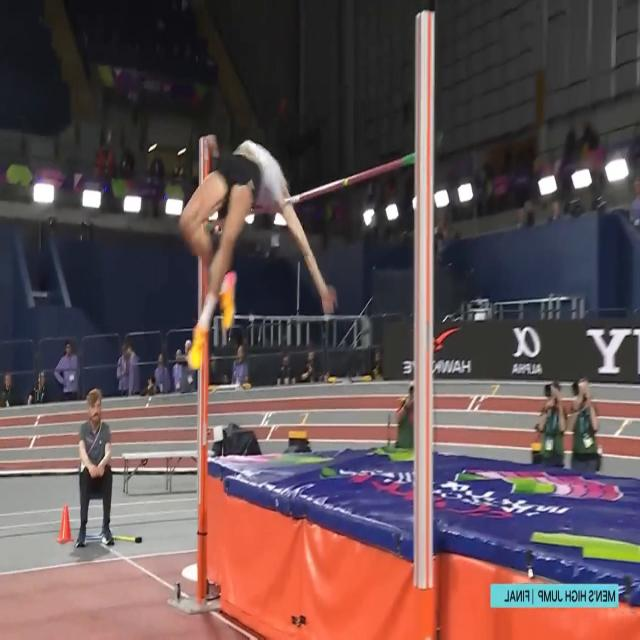jump: (176, 137, 338, 368)
